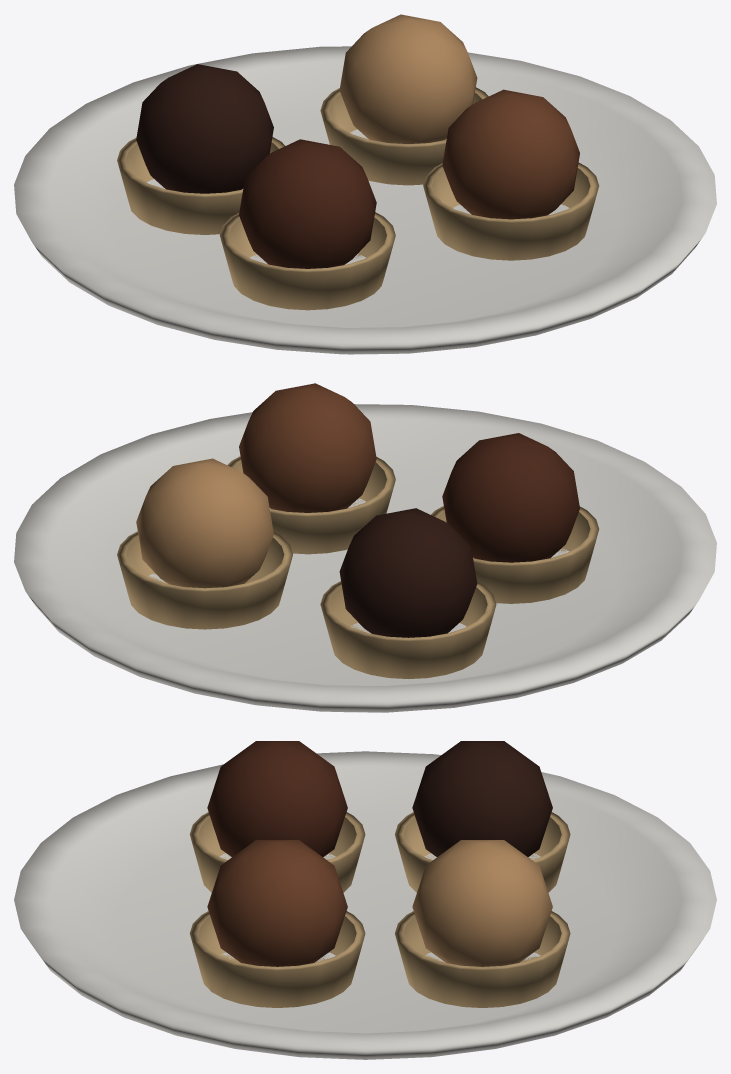
The model's file is item_dish_truffles.glb.
3 views of the same model, one above another, from view 1: azimuth 30°, elevation 25°; view 2: azimuth 150°, elevation 25°; view 3: azimuth 270°, elevation 25° (orthographic).
Parts seen in each view (by area): view 1: item_dish_truffles_main; view 2: item_dish_truffles_main; view 3: item_dish_truffles_main.
Part boxes in pixels (bbox=[...]): item_dish_truffles_main: bbox=[14, 14, 716, 354]; item_dish_truffles_main: bbox=[14, 383, 716, 712]; item_dish_truffles_main: bbox=[14, 741, 716, 1059].
Bounding box in the file's own units: 0.24 × 0.06 × 0.24.
